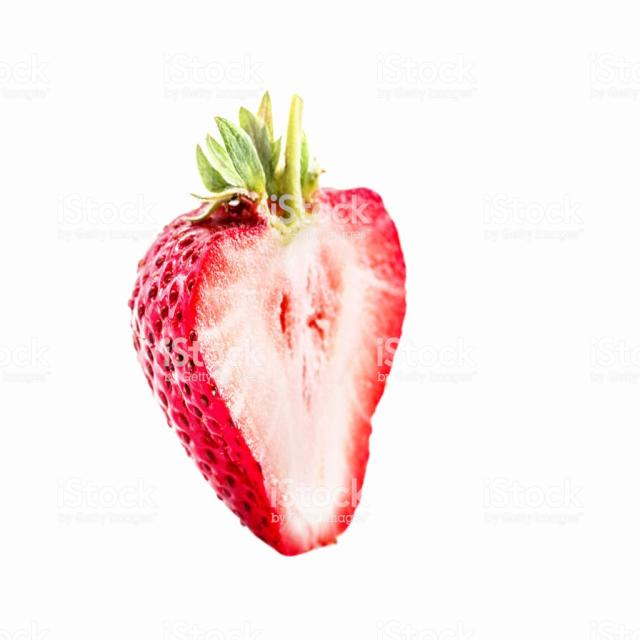strawberry: (104, 78, 424, 577)
